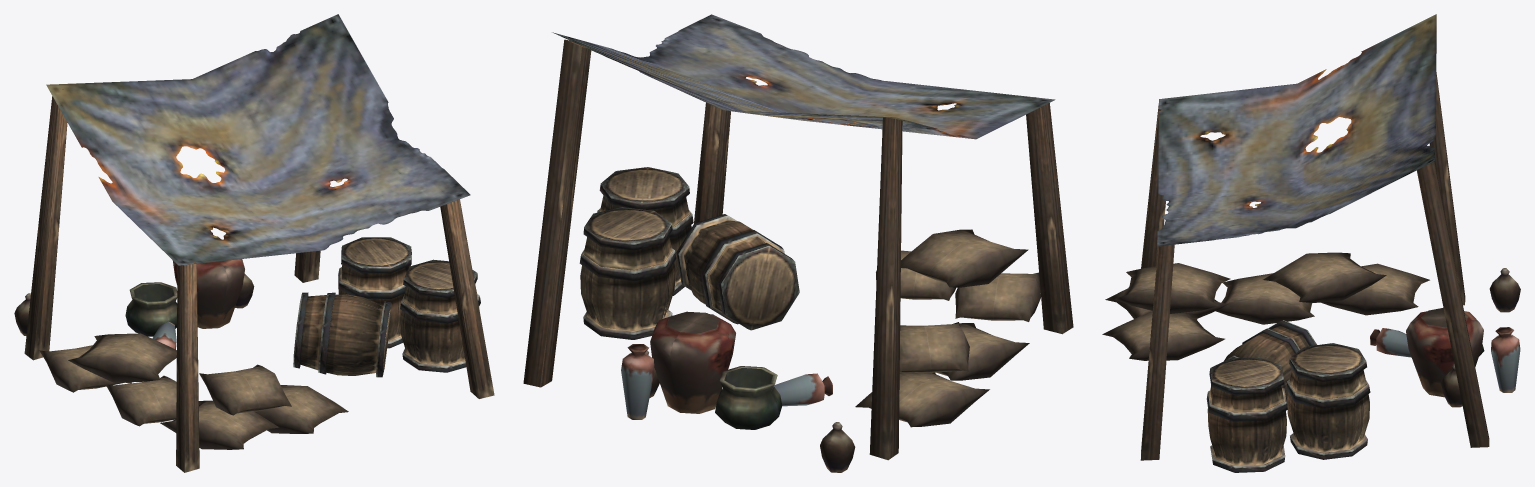
Rendered from ZaWu_All_Jiu01.FBX.
3 renders of one model, left to right at view 1: azimuth 30°, elevation 25°; view 2: azimuth 150°, elevation 25°; view 3: azimuth 270°, elevation 25°, orthographic. The views are drawn at different scales.
Parts seen in each view (by area): view 1: DrawCall_461, ZaWu_All_Jiu01; view 2: ZaWu_All_Jiu01, DrawCall_461; view 3: ZaWu_All_Jiu01, DrawCall_461.
Part boxes in pixels (x1,y1,x2,y2): DrawCall_461: [46, 14, 470, 265]; ZaWu_All_Jiu01: [14, 89, 494, 472]; ZaWu_All_Jiu01: [523, 39, 1073, 472]; DrawCall_461: [552, 14, 1055, 139]; ZaWu_All_Jiu01: [1102, 26, 1520, 472]; DrawCall_461: [1157, 14, 1436, 246].
Bounding box in the file's own units: 590 × 438 × 568.
